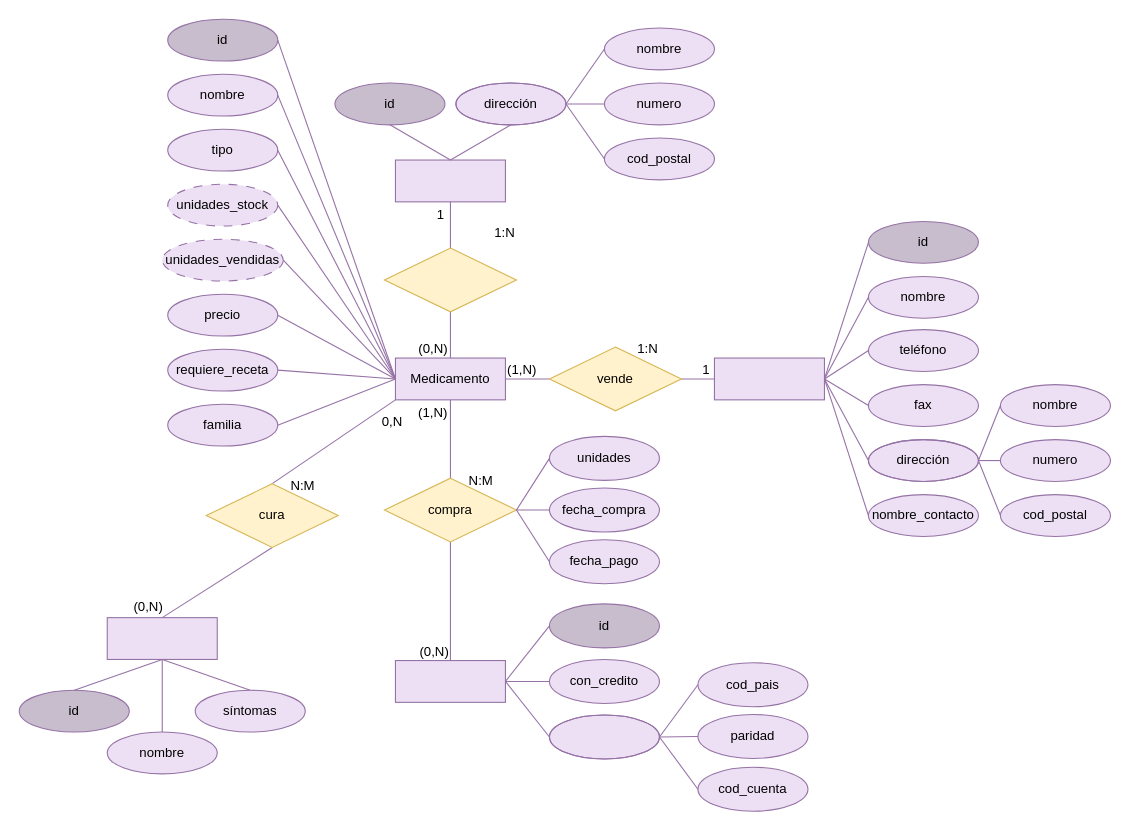
The diagram is 1130 pixels wide and 831 high, and some of its shapes have lost their labels. The shapes that lost their labels are listed below. From the top down, each one's centre as x and y in pixels, then its label:
At pixel 449 180: "Farmacia".
At pixel 449 279: "fabrica".
At pixel 768 378: "Laboratorio".
At pixel 161 638: "Enfermedad".
At pixel 449 680: "Cliente".
At pixel 603 736: "num_IBAN".
